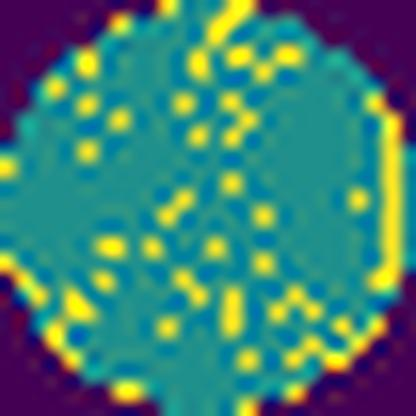Scratch: (362, 90, 408, 299)
